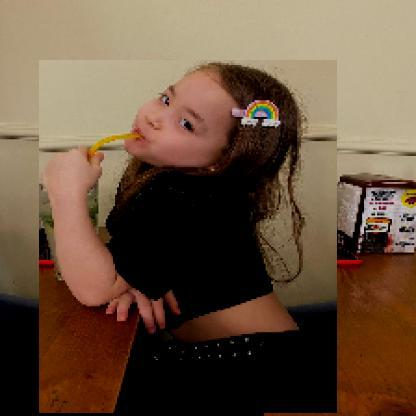child: (40, 61, 339, 415)
